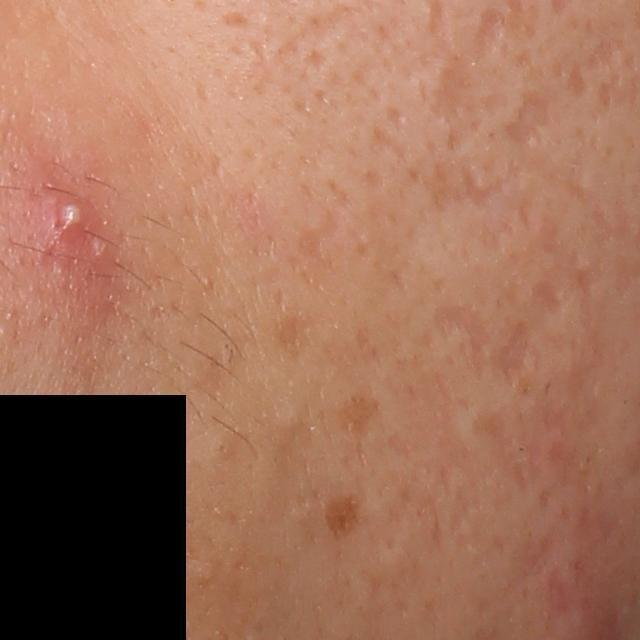atrophic_scar: (459, 400, 541, 502), (427, 297, 503, 386), (490, 312, 542, 397), (581, 36, 626, 109), (504, 95, 551, 149), (458, 160, 505, 213), (360, 118, 418, 160), (436, 67, 473, 125), (471, 9, 503, 63), (526, 277, 569, 317), (567, 57, 588, 97)
pustule: (22, 172, 107, 259)
